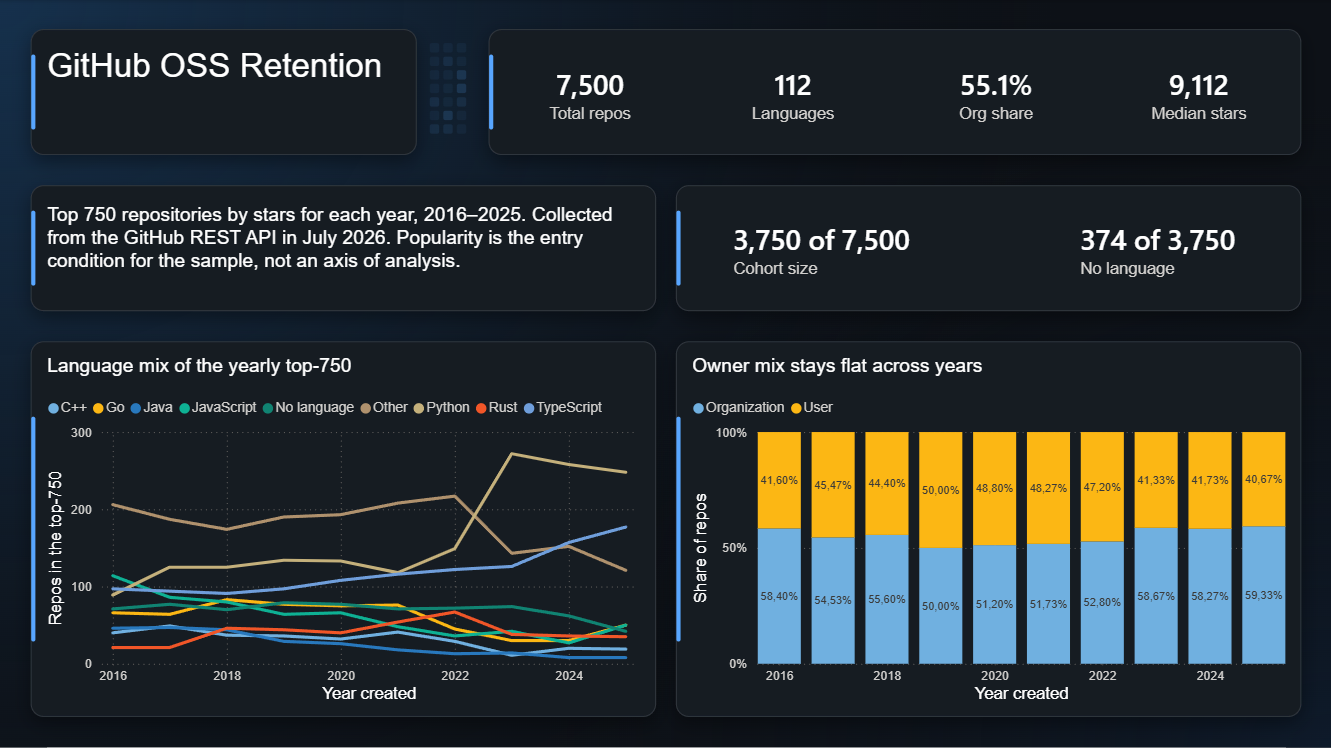

This screenshot's page, from the dashboard's own definition file:
{"tool":"powerbi","page":{"name":"Overview","canvas":[1280,720],"ordinal":0},"visuals":[{"type":"cardVisual","fields":{"Data":["repositories.Total repos"]},"box":[480,40,175,100],"z":6000},{"type":"cardVisual","fields":{"Data":["repositories.Languages"]},"box":[675,40,175,100],"z":7000},{"type":"cardVisual","fields":{"Data":["repositories.Org share"]},"box":[870,40,175,100],"z":8000},{"type":"cardVisual","fields":{"Data":["repositories.Median stars"]},"box":[1065,40,175,100],"z":9000},{"type":"cardVisual","fields":{"Data":["repositories.Cohort size"]},"box":[675.5,189.5,230,100],"z":10000},{"type":"cardVisual","fields":{"Data":["repositories.No language"]},"box":[1009.3,189.5,230,100],"z":11000},{"type":"lineChart","title":"Language mix of the yearly top-750","fields":{"Category":["repositories.created_year"],"Series":["repositories.language_group"],"Y":["repositories.Repos"]},"box":[40,340,580,340],"z":12000},{"type":"hundredPercentStackedColumnChart","title":"Owner mix stays flat across years","fields":{"Category":["repositories.created_year"],"Series":["owners.owner_type"],"Y":["repositories.Repos"]},"box":[660.4,340,580,340],"z":13000},{"type":"textbox","box":[40,40,350,100],"z":14000},{"type":"textbox","box":[40,190,580,100],"z":15000}]}

Visuals, with their boxes in screenshot pixels (x1, y1, x2, y2), scaled from the page's 1280x720 canvas onto the 1331x748 screenshot:
cardVisual - repositories.Total repos: pyautogui.locateOnScreen(499, 42, 681, 145)
cardVisual - repositories.Languages: pyautogui.locateOnScreen(702, 42, 884, 145)
cardVisual - repositories.Org share: pyautogui.locateOnScreen(905, 42, 1087, 145)
cardVisual - repositories.Median stars: pyautogui.locateOnScreen(1107, 42, 1289, 145)
cardVisual - repositories.Cohort size: pyautogui.locateOnScreen(702, 197, 942, 301)
cardVisual - repositories.No language: pyautogui.locateOnScreen(1050, 197, 1289, 301)
"Language mix of the yearly top-750" lineChart: pyautogui.locateOnScreen(42, 353, 645, 706)
"Owner mix stays flat across years" hundredPercentStackedColumnChart: pyautogui.locateOnScreen(687, 353, 1290, 706)
textbox: pyautogui.locateOnScreen(42, 42, 406, 145)
textbox: pyautogui.locateOnScreen(42, 197, 645, 301)
